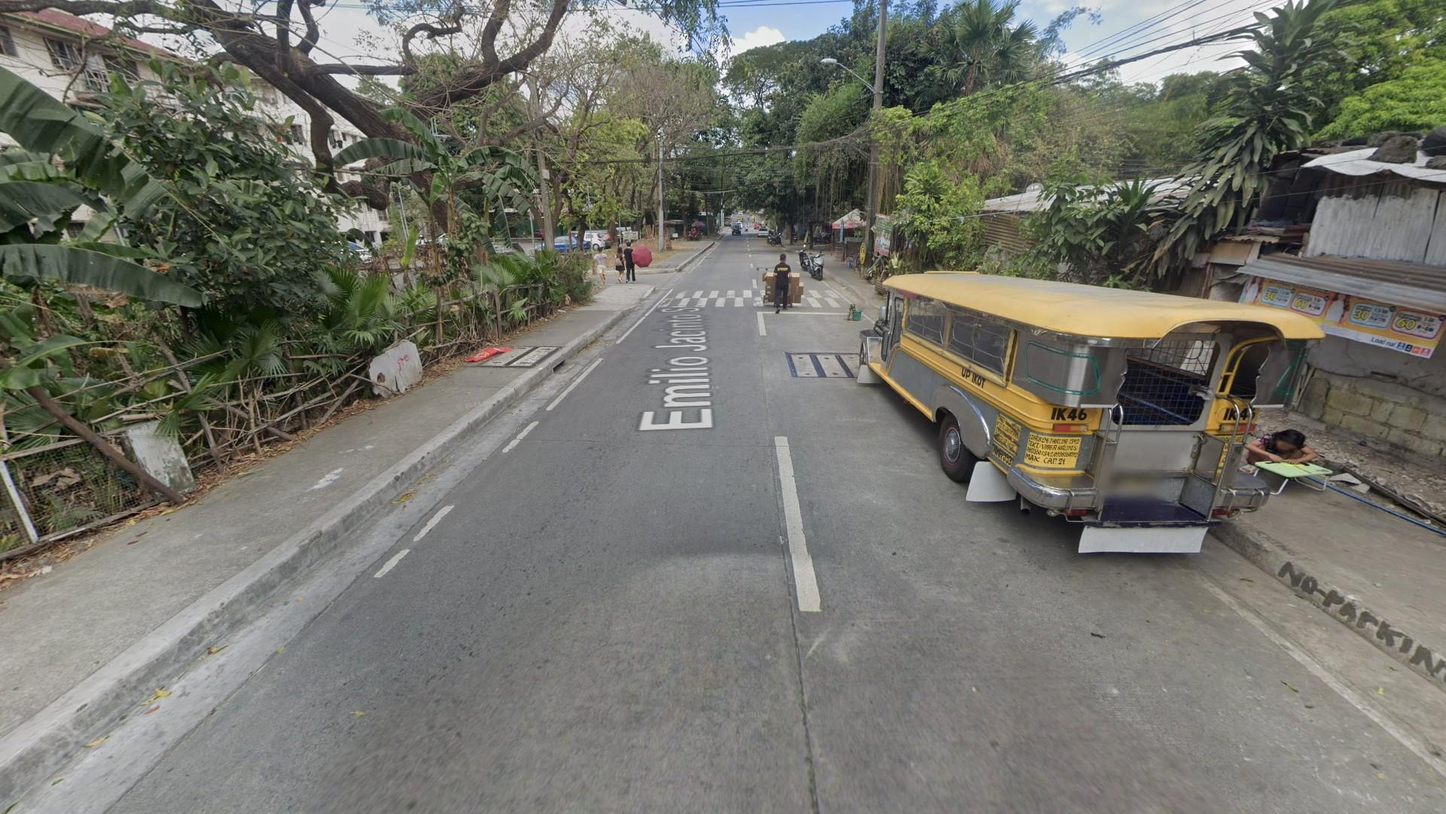pedestrian: (770, 251, 792, 315), (591, 242, 610, 290), (622, 240, 638, 283), (613, 245, 626, 285)
